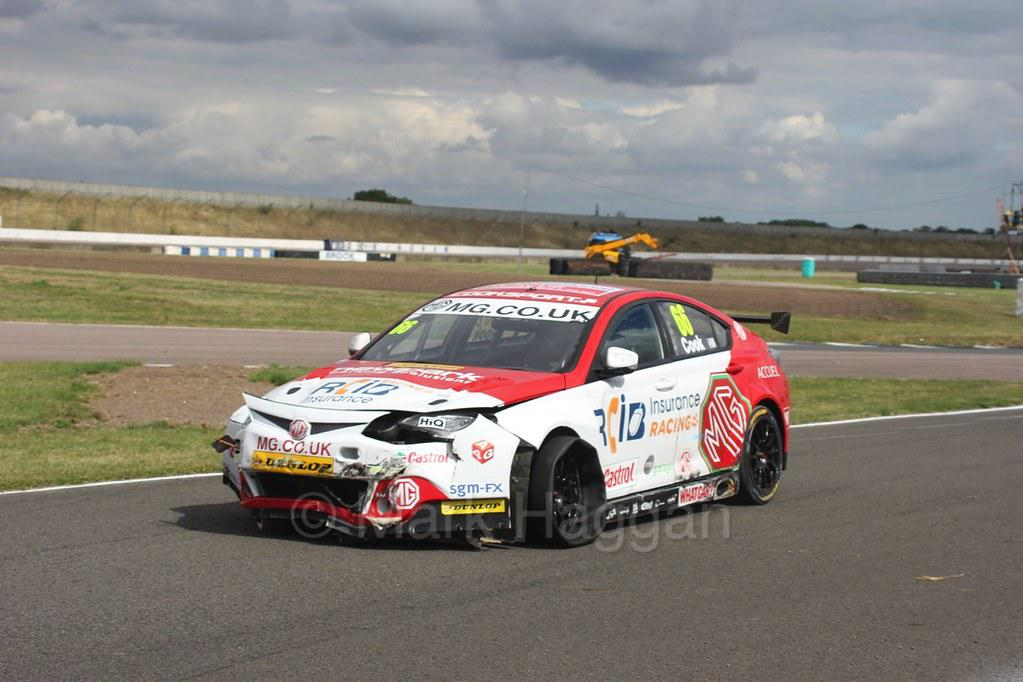front-bumper-dent: (254, 447, 407, 522)
